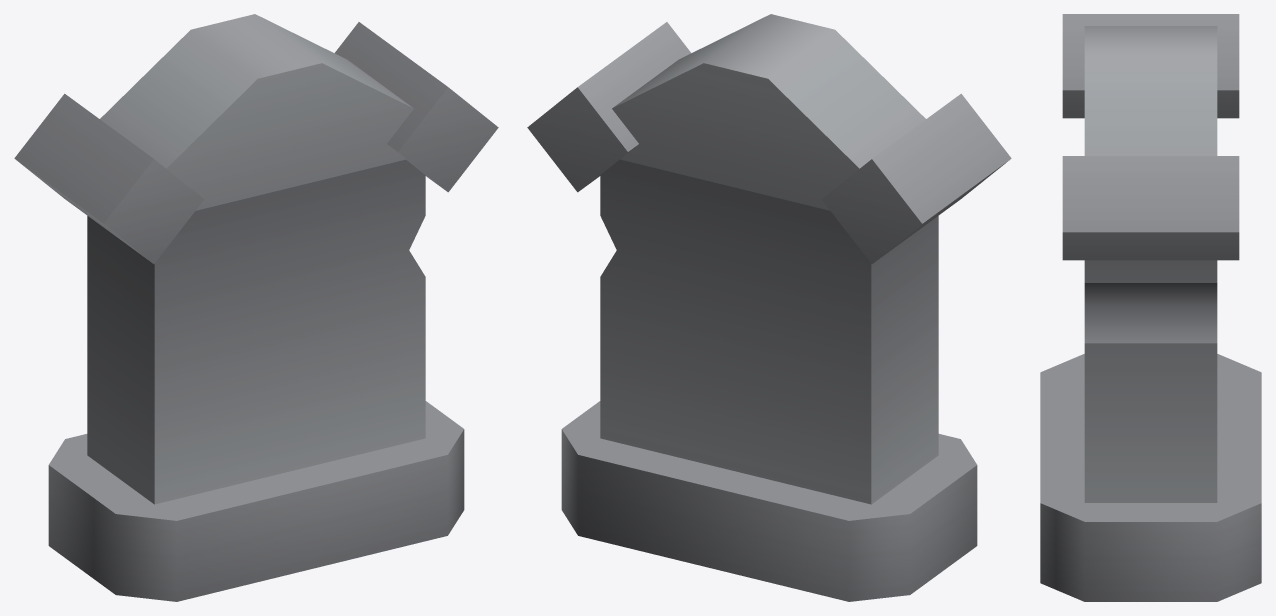
The model's file is gravestone-decorative.glb.
The picture shows the model from 3 angles, left to right: view 1: azimuth 30°, elevation 25°; view 2: azimuth 150°, elevation 25°; view 3: azimuth 270°, elevation 25°; orthographic projection.
Parts seen in each view (by area): view 1: gravestone-decorative; view 2: gravestone-decorative; view 3: gravestone-decorative.
Boxes of the visible parts, bbox=[...] form: gravestone-decorative: bbox=[14, 14, 498, 601]; gravestone-decorative: bbox=[527, 14, 1011, 601]; gravestone-decorative: bbox=[1040, 14, 1261, 601].
Size of the model in its own units: 0.7651 by 0.8914 by 0.375.
1 material, 1 textured.
